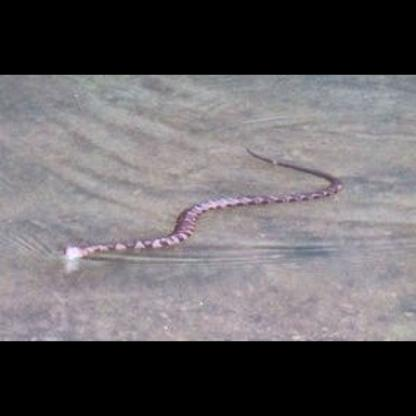Snake: (58, 149, 346, 259)
